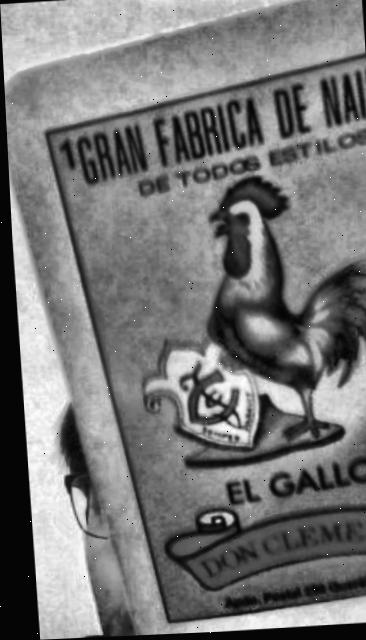Gallo: (46, 58, 366, 623)
